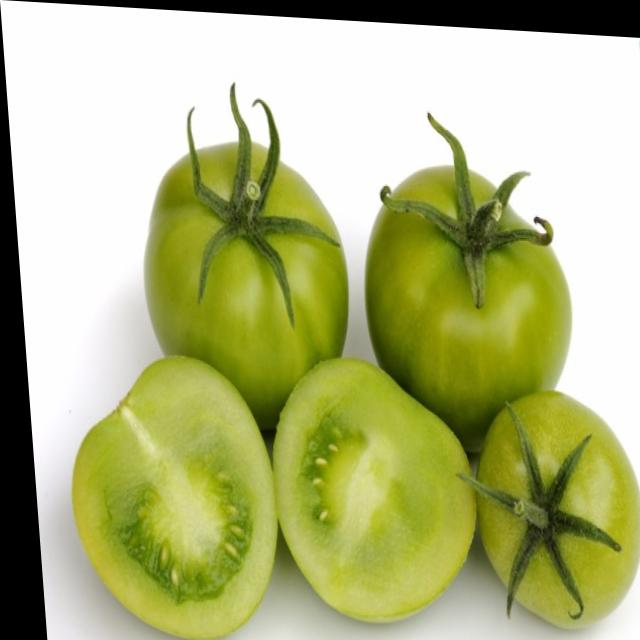yesil: (118, 137, 351, 389), (355, 139, 571, 408), (446, 381, 640, 640)
